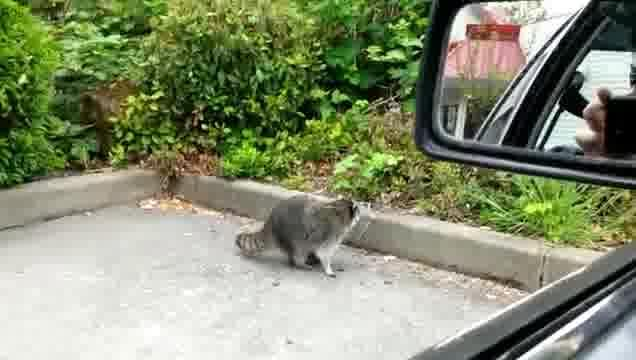raccoon: (234, 196, 361, 278)
